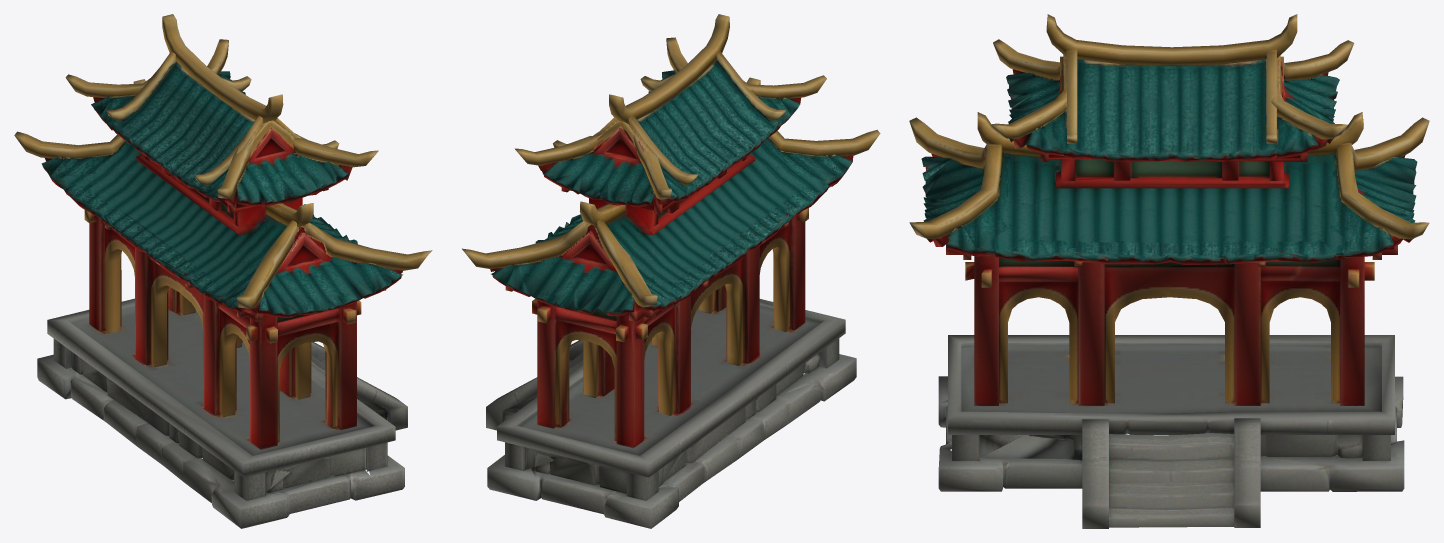
File: tripo_convert_32695887-4b42-437a-b361-c64f01863877.fbx
3 renders of one model, left to right at view 1: azimuth 30°, elevation 25°; view 2: azimuth 150°, elevation 25°; view 3: azimuth 270°, elevation 25°, orthographic. The views are drawn at different scales.
Visible parts, largest first — view 1: tripo_node_32695887; view 2: tripo_node_32695887; view 3: tripo_node_32695887.
Boxes of the visible parts, x1,y1,x2,y2 form: tripo_node_32695887: (14, 14, 432, 528); tripo_node_32695887: (462, 14, 880, 528); tripo_node_32695887: (909, 14, 1429, 528).
Size of the model in its own units: 0.6152 by 0.9121 by 0.998.
Materials: 1 (1 with a texture image).
